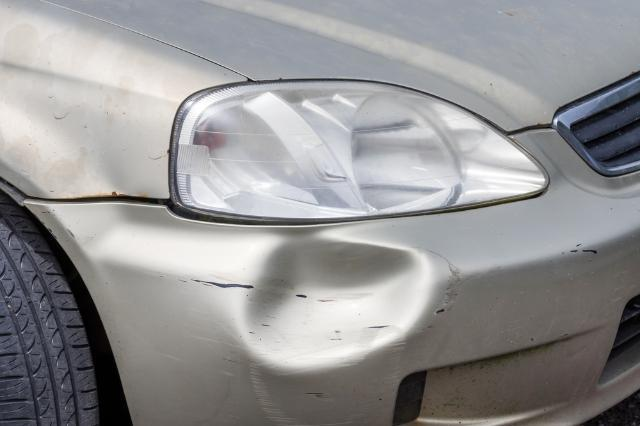dent: (241, 232, 430, 369)
scratch: (247, 337, 410, 426), (435, 251, 472, 314), (160, 275, 251, 293), (559, 240, 599, 256)
